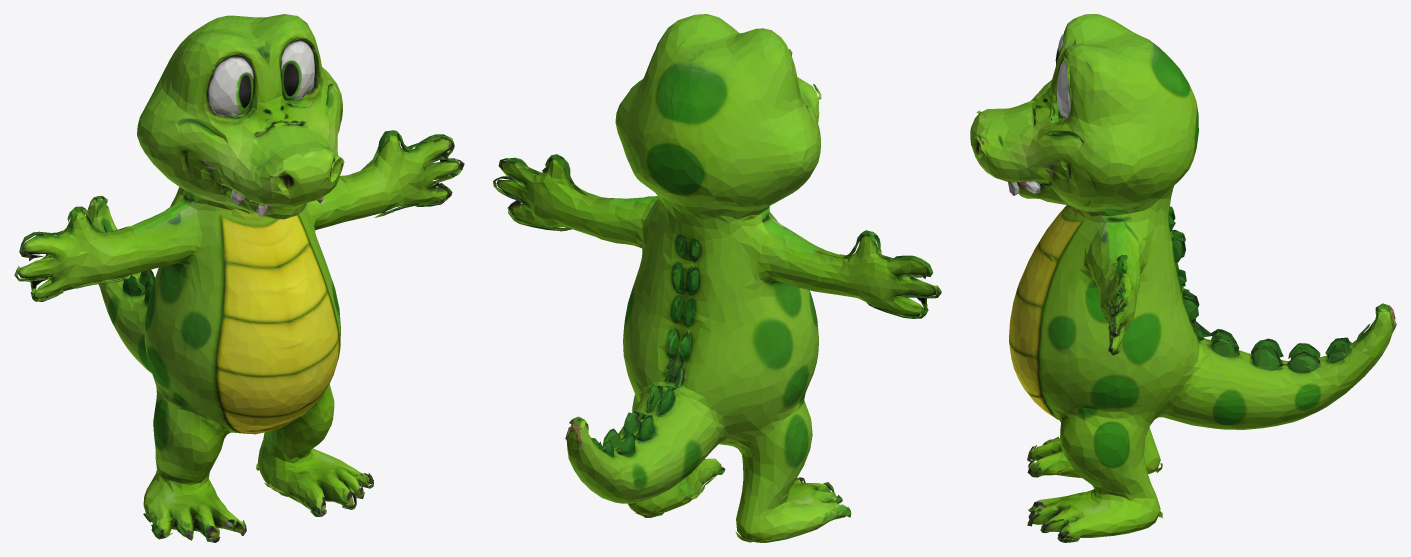
The model's file is Jacare.fbx.
The picture shows the model from 3 angles, left to right: view 1: azimuth 30°, elevation 25°; view 2: azimuth 150°, elevation 25°; view 3: azimuth 270°, elevation 25°; orthographic projection. The views are drawn at different scales.
Visible parts, largest first — view 1: temp; view 2: temp; view 3: temp.
Part boxes in pixels (bbox=[...]): temp: bbox=[14, 14, 464, 542]; temp: bbox=[493, 14, 941, 542]; temp: bbox=[970, 14, 1396, 542].
Size of the model in its own units: 193 by 198 by 164.
Materials: 1 (1 with a texture image).
